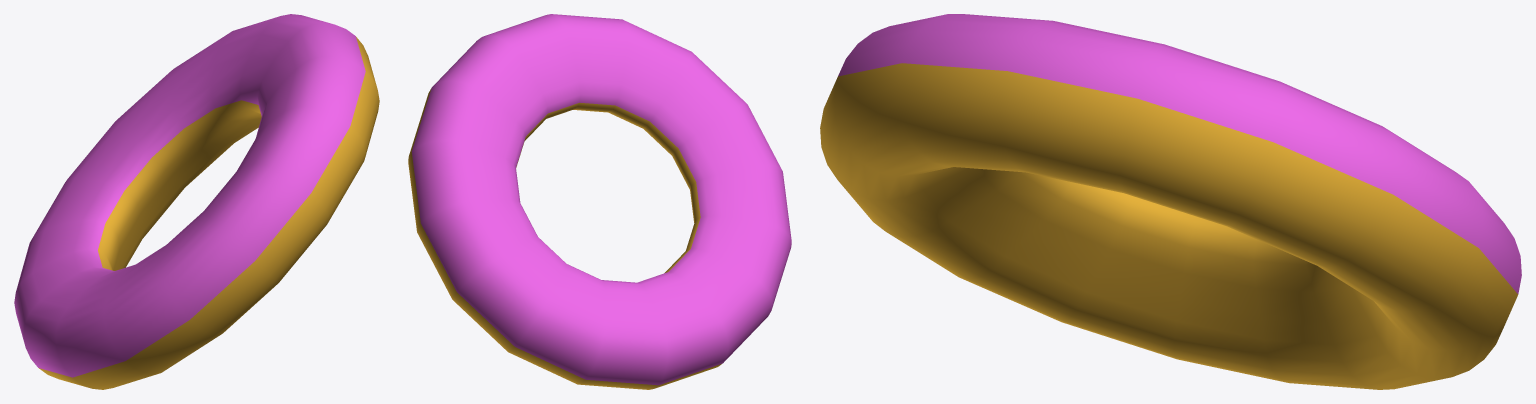
File: Donut.glb
3 views of the same model, side by side, from view 1: azimuth 30°, elevation 25°; view 2: azimuth 150°, elevation 25°; view 3: azimuth 270°, elevation 25° (orthographic). The views are drawn at different scales.
Visible parts, largest first — view 1: Donut; view 2: Donut; view 3: Donut.
Boxes of the visible parts, x1,y1,x2,y2 form: Donut: (14,14,379,389); Donut: (408,14,791,389); Donut: (820,14,1521,389).
Size of the model in its own units: 1.87 by 1.66 by 2.15.
